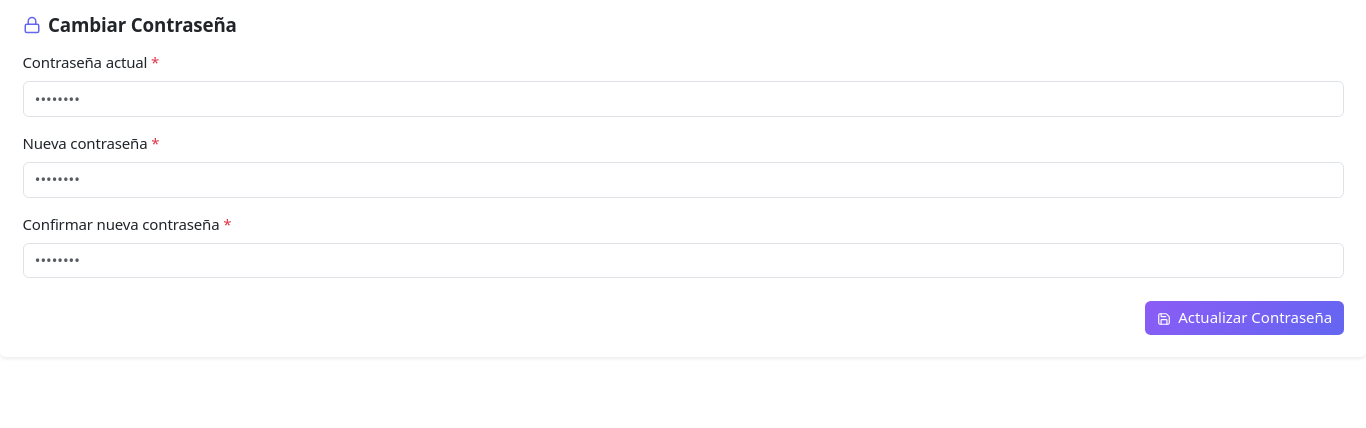
Test: ChangePasswordCard › muestra error si la nueva contraseña es muy corta
The image size is (1366, 428).
Type "actual1" into the password field with placeholder "••••••••" below "Contraseña actual".
click(683, 99); type("actual1")  # box top-left (22, 81), bottom-right (1344, 117)
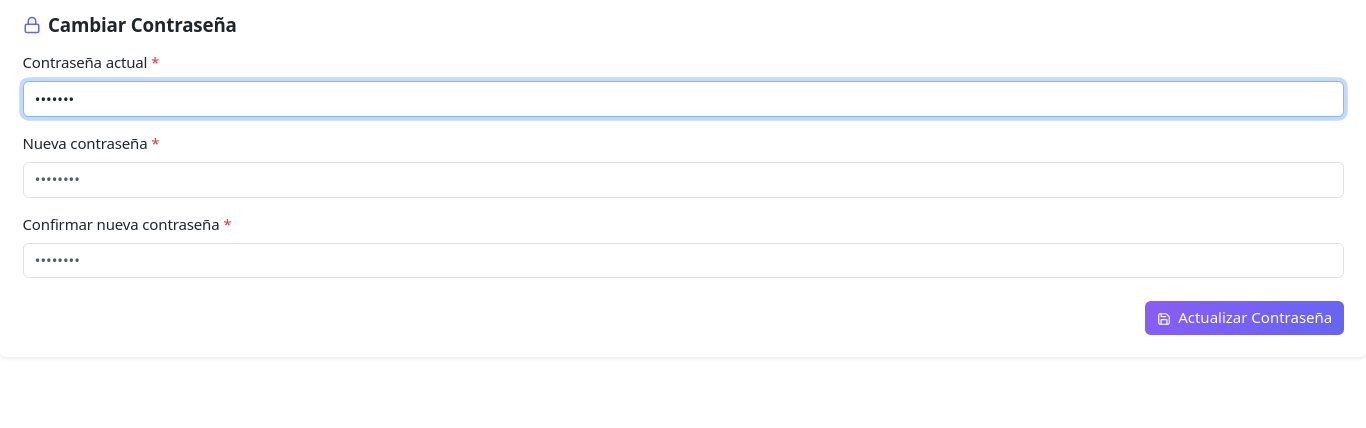
Type "ab" into the 1st password field with placeholder "••••••••".
click(683, 180); type("ab")  # box top-left (22, 162), bottom-right (1344, 198)
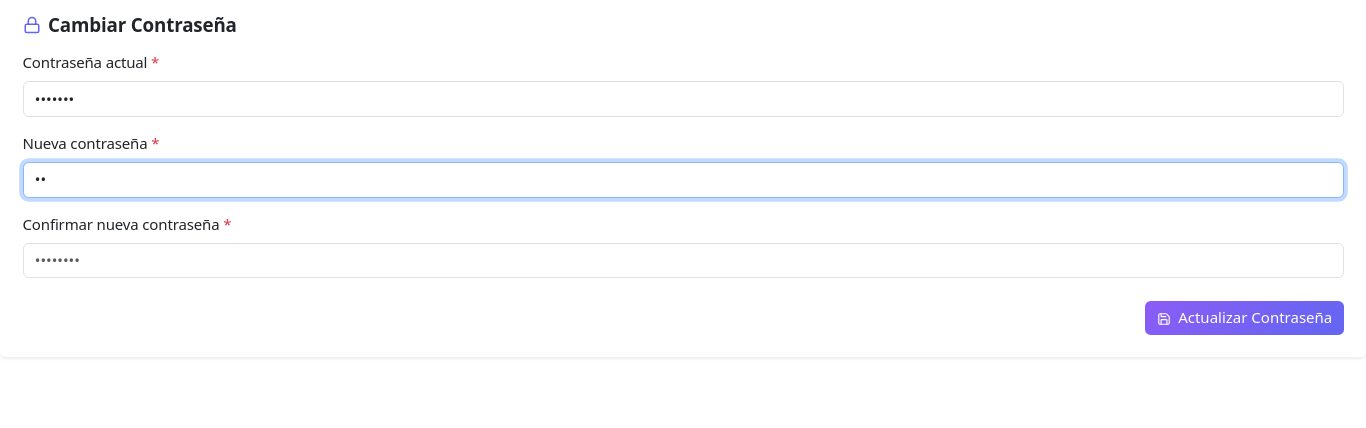
Type "ab" into the password field with placeholder "••••••••".
click(683, 260); type("ab")  # box top-left (22, 242), bottom-right (1344, 278)
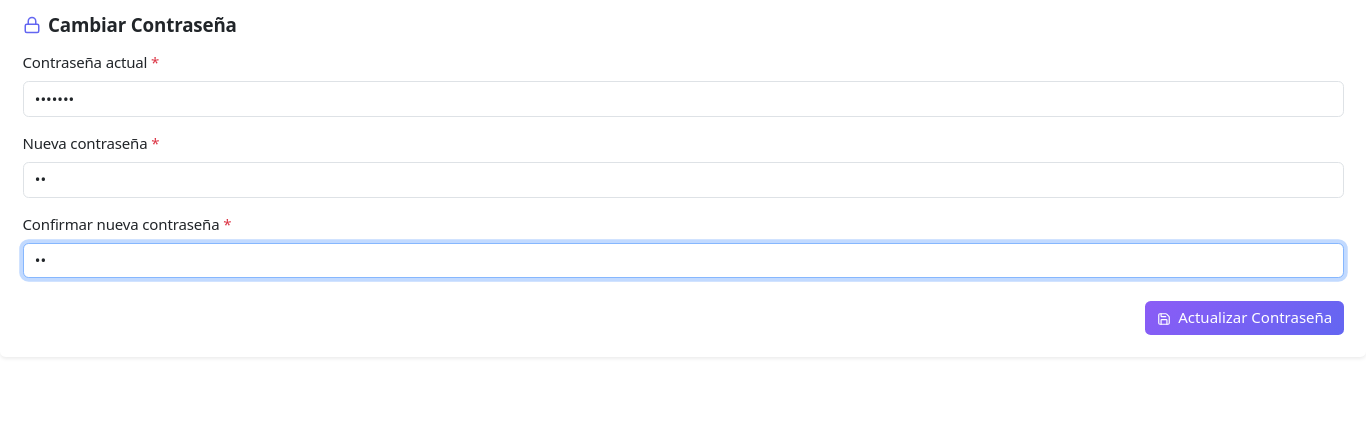
Click the button "Actualizar Contraseña".
click(1244, 318)  # box top-left (1145, 301), bottom-right (1344, 335)
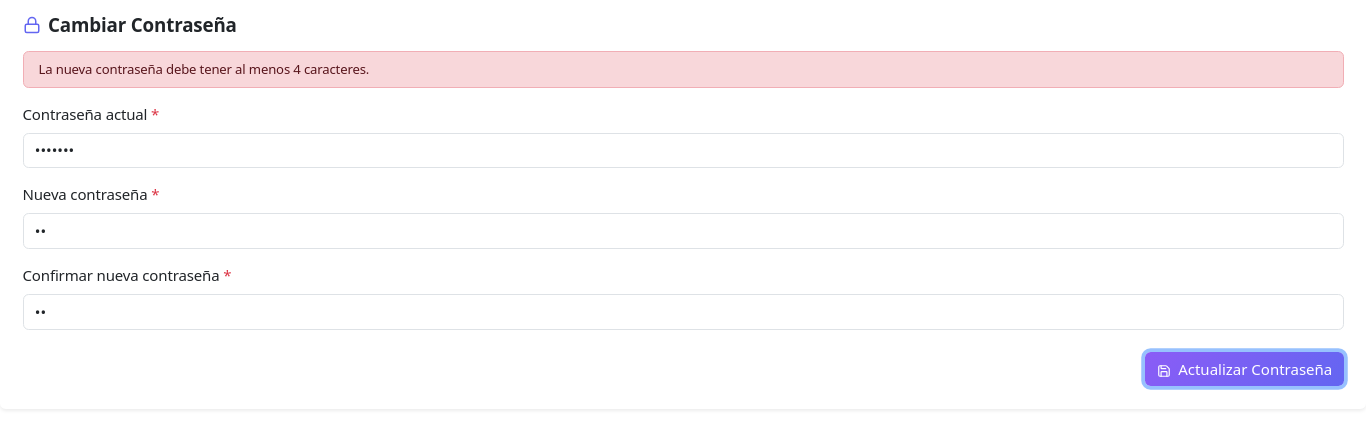
Expected: the text "La nueva contraseña debe tener al menos 4 caracteres." is shown, top-left (22, 51), bottom-right (1344, 88)
